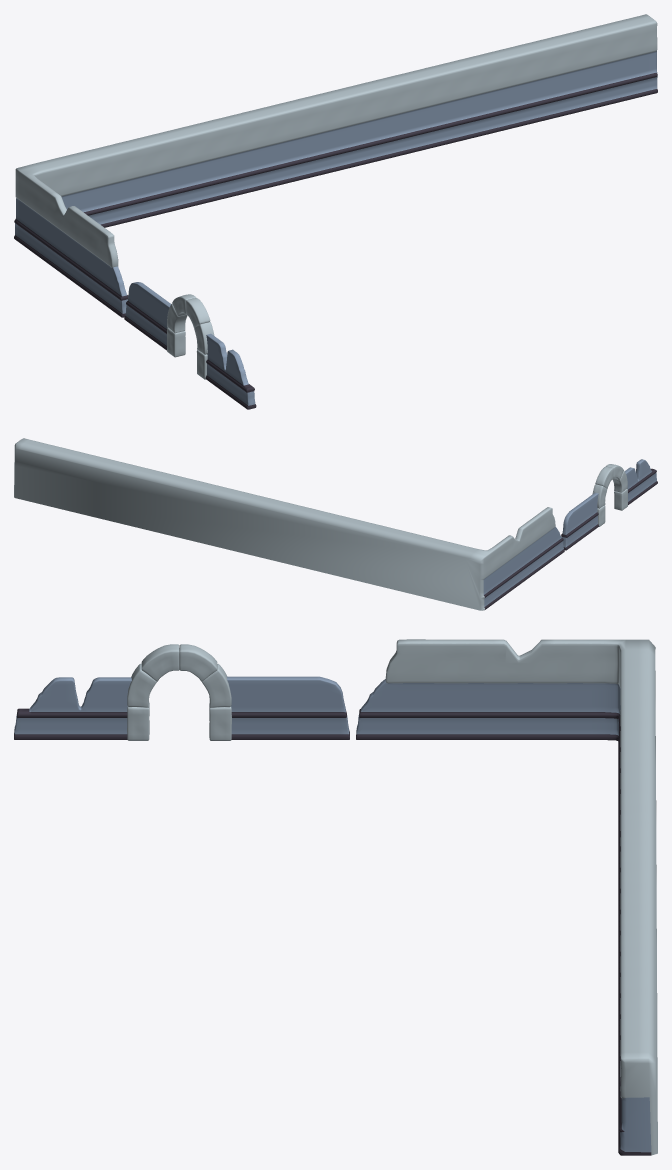
The model's file is ruins-arch-2.fbx.
3 views of the same model, one above another, from view 1: azimuth 30°, elevation 25°; view 2: azimuth 150°, elevation 25°; view 3: azimuth 270°, elevation 25° (orthographic). The views are drawn at different scales.
Visible parts, largest first — view 1: LeftWall.001, LeftWall, RightWall; view 2: LeftWall.001, RightWall, LeftWall, Cube.008; view 3: LeftWall.001, RightWall, LeftWall, Cube.007, Cube.008, Cube.009, Cube.006, Cube.005, Cube.010.
Part boxes in pixels (x1,y1,x2,y2): LeftWall.001: [14, 14, 657, 317]; LeftWall: [205, 333, 256, 409]; RightWall: [124, 282, 170, 350]; LeftWall.001: [14, 438, 564, 610]; RightWall: [561, 492, 598, 550]; LeftWall: [625, 459, 657, 504]; Cube.008: [595, 466, 613, 488]; LeftWall.001: [356, 639, 657, 1155]; RightWall: [227, 676, 349, 739]; LeftWall: [14, 677, 131, 739]; Cube.007: [141, 644, 179, 681]; Cube.008: [179, 644, 217, 681]; Cube.009: [202, 664, 231, 707]; Cube.006: [127, 663, 156, 707]; Cube.005: [127, 702, 149, 740]; Cube.010: [209, 703, 231, 740].
Size of the model in its own units: 3059 by 329 by 1972.
